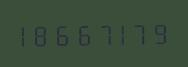eight: (36, 21, 54, 47)
nine: (150, 19, 168, 45)
one: (17, 21, 35, 48), (112, 19, 130, 46)
seven: (131, 19, 149, 46), (93, 20, 111, 46)
six: (55, 20, 73, 47), (74, 20, 92, 47)
